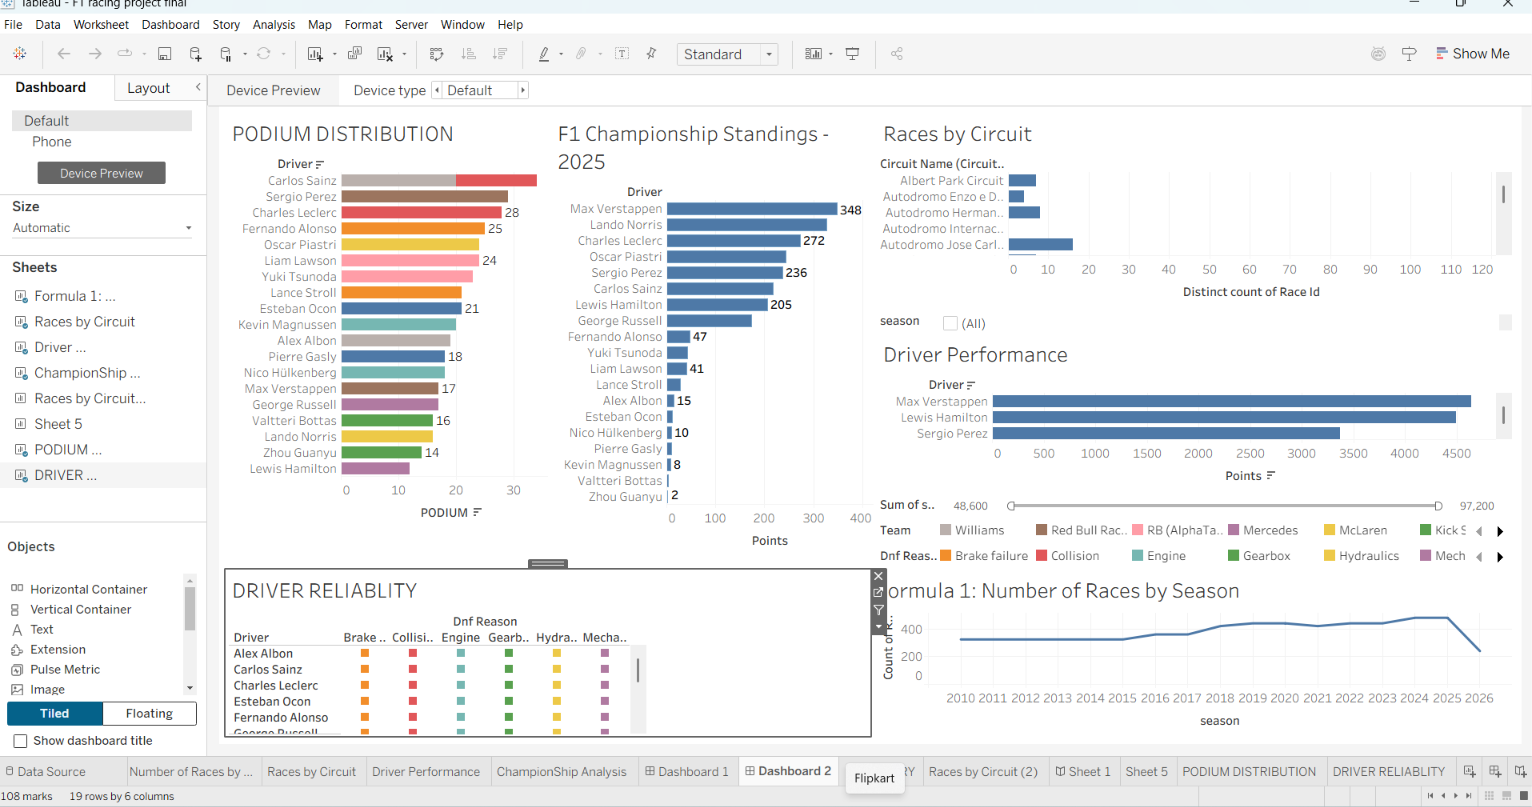

Layout of this report page (visuals, bound fields, positions):
{"tool":"tableau","page":{"name":"Dashboard 2","canvas":[1000,1000],"units":"permille","ordinal":1},"visuals":[{"type":"worksheet","title":"PODIUM DISTRIBUTION","mark":"Automatic","rows":["driver"],"cols":["dnf"],"box":[4.9,10,250,716.4]},{"type":"worksheet","title":"ChampionShip Analysis","mark":"Automatic","rows":["driver"],"cols":["points"],"box":[254.9,10,250,716.4]},{"type":"worksheet","title":"Races by Circuit","mark":"Automatic","rows":["circuit_name (circuits)"],"cols":["race_id"],"box":[504.9,10,490.2,307.4]},{"type":"filter","title":"ChampionShip Analysis","param":"[federated.1e44q3j1xbsadf17f726h0s616em].[none:season:ok]","box":[504.9,317.4,490.2,38.9]},{"type":"worksheet","title":"Driver Performance","mark":"Bar","rows":["driver"],"cols":["points"],"box":[504.9,356.3,490.2,249.7]},{"type":"filter","title":"ChampionShip Analysis","param":"[federated.1e44q3j1xbsadf17f726h0s616em].[sum:season:qk]","box":[504.9,606,490.2,40.1]},{"type":"legend","title":"PODIUM DISTRIBUTION","param":"[federated.1e44q3j1xbsadf17f726h0s616em].[none:team:nk]","box":[504.9,646.2,490.2,40.1]},{"type":"legend","title":"DRIVER RELIABLITY","param":"[federated.1e44q3j1xbsadf17f726h0s616em].[none:dnf_reason:nk]","box":[504.9,686.3,490.2,40.1]},{"type":"worksheet","title":"DRIVER RELIABLITY","mark":"Automatic","rows":["driver"],"cols":["dnf_reason"],"box":[4.9,726.5,495.1,263.5]},{"type":"worksheet","title":"Formula 1: Number of Races by Season","mark":"Automatic","rows":["race_id"],"cols":["season"],"box":[500,726.5,495.1,263.5]}]}

Visuals, with their boxes on the dashboard's canvas, which has no fixed pixel size, in thousandths of its width and height (x1, y1, x2, y2). These are canvas units, not pixel positions in the 1532x807 screenshot, which may show the page scaled, cropped or inside an application window:
"PODIUM DISTRIBUTION" worksheet: [5,10,255,726]
"ChampionShip Analysis" worksheet: [255,10,505,726]
"Races by Circuit" worksheet: [505,10,995,317]
"ChampionShip Analysis" filter: [505,317,995,356]
"Driver Performance" worksheet (Bar marks): [505,356,995,606]
"ChampionShip Analysis" filter: [505,606,995,646]
"PODIUM DISTRIBUTION" legend: [505,646,995,686]
"DRIVER RELIABLITY" legend: [505,686,995,726]
"DRIVER RELIABLITY" worksheet: [5,726,500,990]
"Formula 1: Number of Races by Season" worksheet: [500,726,995,990]
